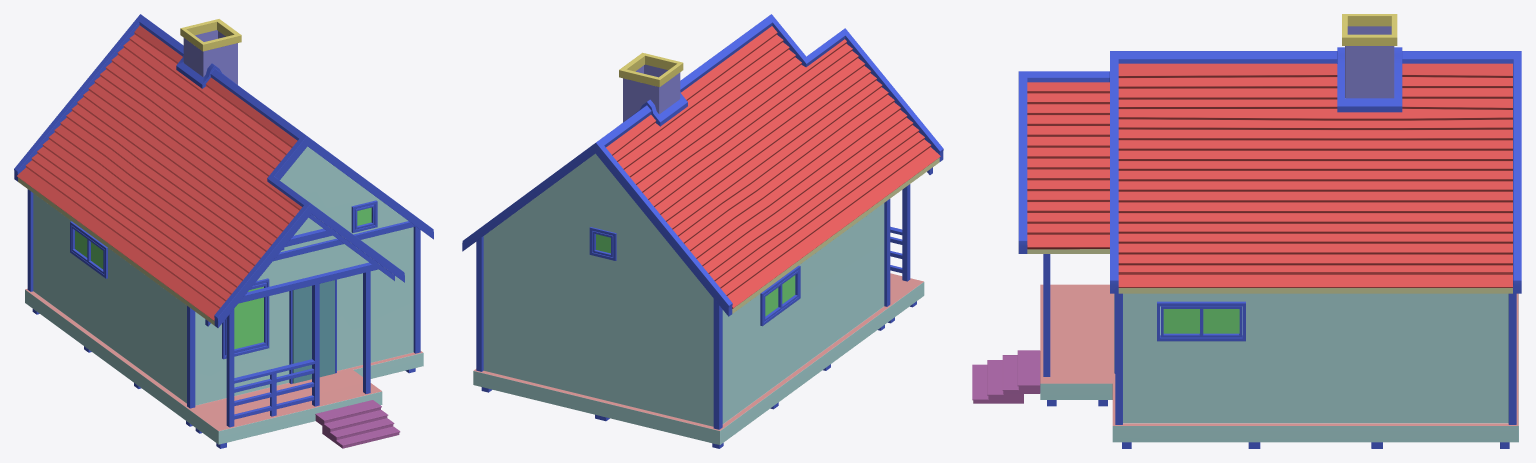
The model's file is SM_House_01.fbx.
3 views of the same model, side by side, from view 1: azimuth 30°, elevation 25°; view 2: azimuth 150°, elevation 25°; view 3: azimuth 270°, elevation 25° (orthographic). The views are drawn at different scales.
Visible parts, largest first — view 1: SM_House_01; view 2: SM_House_01; view 3: SM_House_01.
Boxes of the visible parts, x1=… form: SM_House_01: x1=14, y1=14, x2=433, y2=448; SM_House_01: x1=462, y1=14, x2=943, y2=448; SM_House_01: x1=972, y1=14, x2=1521, y2=448.
Size of the model in its own units: 840 by 920 by 1269.
